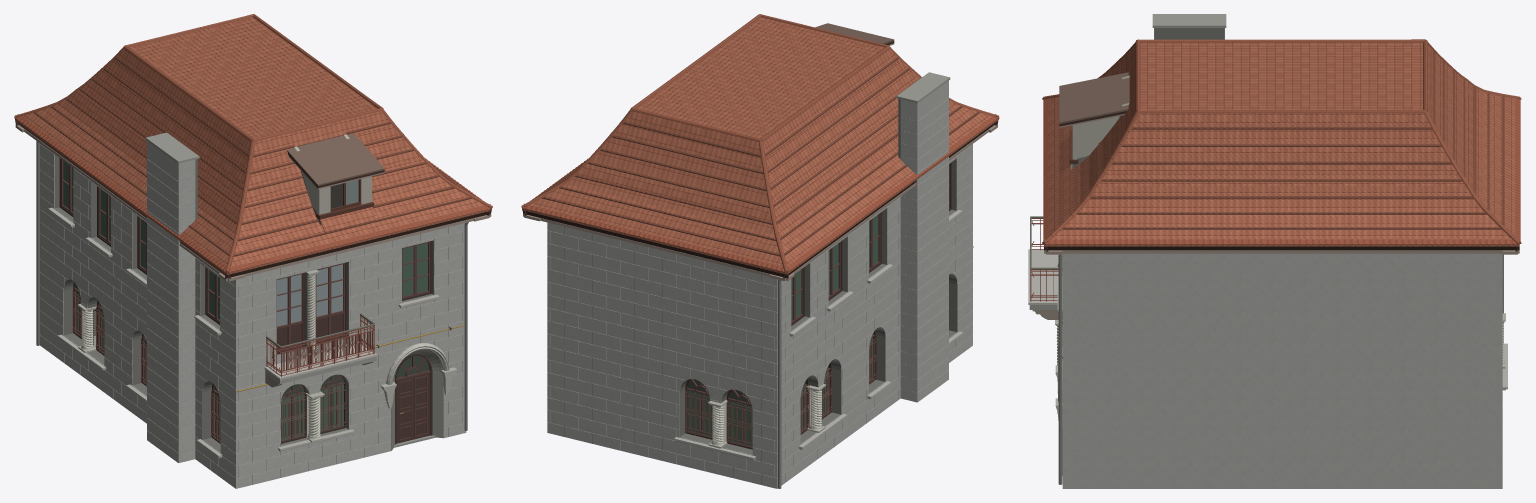
The model's file is hongkou-dongtiyuhui-lane-119-old-no3-garden-residence-lod.glb.
3 renders of one model, left to right at view 1: azimuth 30°, elevation 25°; view 2: azimuth 150°, elevation 25°; view 3: azimuth 270°, elevation 25°, orthographic. The views are drawn at different scales.
Parts seen in each view (by area): view 1: 东体育会路119弄老3号花园住宅; view 2: 东体育会路119弄老3号花园住宅; view 3: 东体育会路119弄老3号花园住宅.
Boxes of the visible parts, x1=… form: 东体育会路119弄老3号花园住宅: x1=14, y1=14, x2=492, y2=488; 东体育会路119弄老3号花园住宅: x1=521, y1=14, x2=999, y2=488; 东体育会路119弄老3号花园住宅: x1=1028, y1=14, x2=1521, y2=488.
Size of the model in its own units: 9.79 by 10.91 by 13.89.
Materials: 33 (2 with a texture image).
